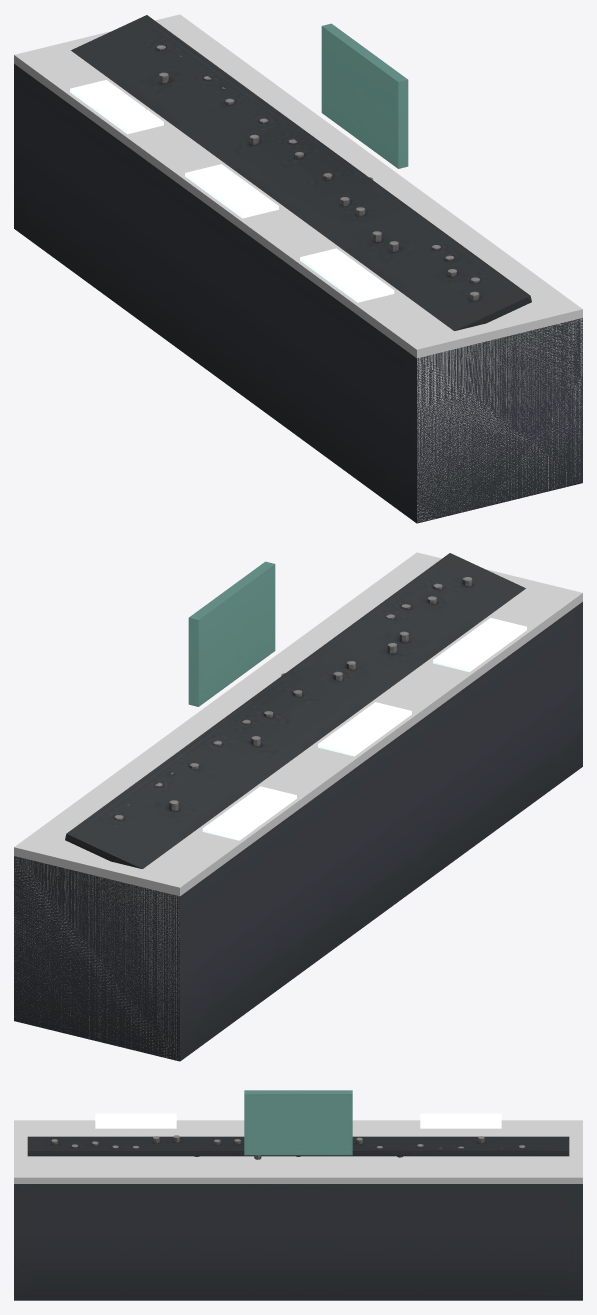
File: broadcast_console.glb
The picture shows the model from 3 angles, top to bottom: view 1: azimuth 30°, elevation 25°; view 2: azimuth 150°, elevation 25°; view 3: azimuth 270°, elevation 25°; orthographic projection. The views are drawn at different scales.
Visible parts, largest first — view 1: BroadcastConsole, COL_Body; view 2: BroadcastConsole, COL_Body; view 3: BroadcastConsole, COL_Body.
Part boxes in pixels (x1,y1,x2,y2): BroadcastConsole: (14, 15, 582, 523); COL_Body: (14, 14, 582, 521); BroadcastConsole: (14, 553, 582, 1061); COL_Body: (14, 552, 582, 1061); BroadcastConsole: (14, 1090, 582, 1300); COL_Body: (14, 1120, 582, 1183).
Size of the model in its own units: 1.01 by 1.65 by 4.2.
Materials: 5 (5 with a texture image).
